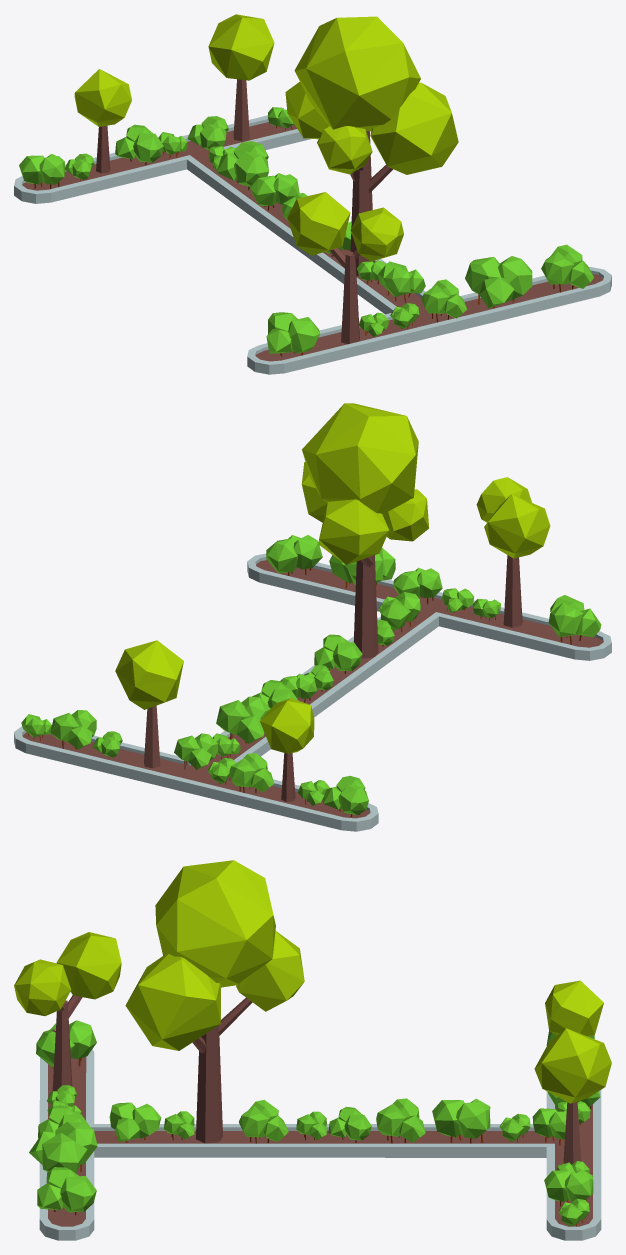
The model's file is ParkingBay4.fbx.
3 views of the same model, one above another, from view 1: azimuth 30°, elevation 25°; view 2: azimuth 150°, elevation 25°; view 3: azimuth 270°, elevation 25° (orthographic). The views are drawn at different scales.
Parts seen in each view (by area): view 1: Cube.035, Icosphere.097, Cylinder.154, Icosphere.096, Cylinder.155, Cylinder.152, Icosphere.091, Icosphere.094, Icosphere.090, Icosphere.086, Icosphere.085, Cylinder.153 (+11 smaller); view 2: Cube.035, Icosphere.097, Cylinder.154, Cylinder.155, Icosphere.098, Cylinder.152, Cylinder.153, Icosphere.086, Icosphere.090, Icosphere.085, Icosphere.094, Icosphere.092 (+11 smaller); view 3: Cube.035, Icosphere.097, Cylinder.154, Icosphere.096, Cylinder.155, Cylinder.153, Icosphere.098, Cylinder.152, Icosphere.091, Icosphere.085, Icosphere.086, Icosphere.088 (+11 smaller).
Boxes of the visible parts, box(x1,y1,x2,y2) form: Cube.035: box(14, 115, 611, 374); Icosphere.097: box(294, 16, 420, 131); Cylinder.154: box(287, 192, 403, 344); Icosphere.096: box(370, 82, 458, 174); Cylinder.155: box(208, 14, 274, 141); Cylinder.152: box(74, 69, 131, 173); Icosphere.091: box(465, 256, 532, 308); Icosphere.094: box(317, 126, 372, 174); Icosphere.090: box(266, 312, 320, 356); Icosphere.086: box(217, 141, 268, 189); Icosphere.085: box(541, 244, 593, 292); Cylinder.153: box(350, 131, 393, 276); Cube.035: box(14, 553, 611, 831); Icosphere.097: box(302, 403, 418, 514); Cylinder.154: box(476, 477, 550, 627); Cylinder.155: box(115, 640, 183, 768); Icosphere.098: box(318, 499, 389, 564); Cylinder.152: box(260, 698, 314, 801); Cylinder.153: box(353, 555, 378, 658); Icosphere.086: box(216, 696, 270, 743); Icosphere.090: box(548, 595, 601, 644); Icosphere.085: box(266, 535, 322, 575); Icosphere.094: box(382, 489, 428, 541); Icosphere.092: box(50, 710, 96, 749); Cube.035: box(39, 1049, 601, 1240); Icosphere.097: box(155, 860, 275, 987); Cylinder.154: box(14, 932, 121, 1091); Icosphere.096: box(125, 953, 220, 1050); Cylinder.155: box(534, 1028, 611, 1164); Cylinder.153: box(192, 998, 252, 1143); Icosphere.098: box(236, 930, 304, 1011); Cylinder.152: box(545, 980, 603, 1036); Icosphere.091: box(29, 1121, 97, 1173); Icosphere.085: box(37, 1167, 96, 1214); Icosphere.086: box(432, 1098, 490, 1143); Icosphere.088: box(109, 1102, 161, 1142).
Size of the model in its own units: 1638 by 1121 by 2189.
